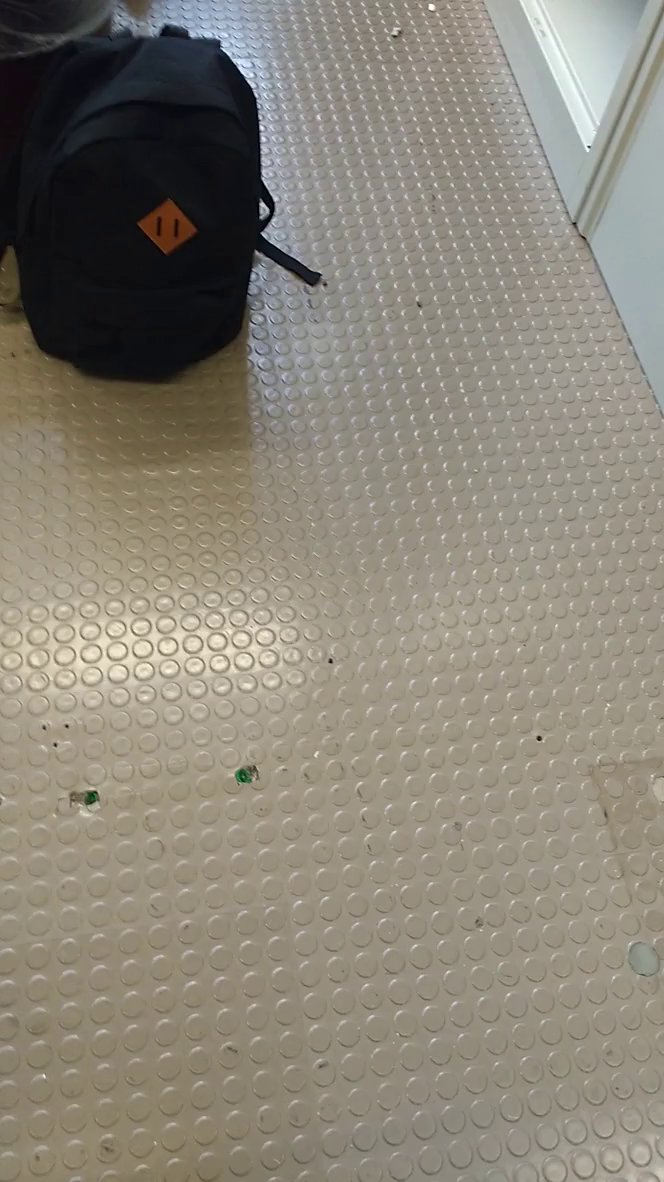bag: (3, 22, 327, 389)
